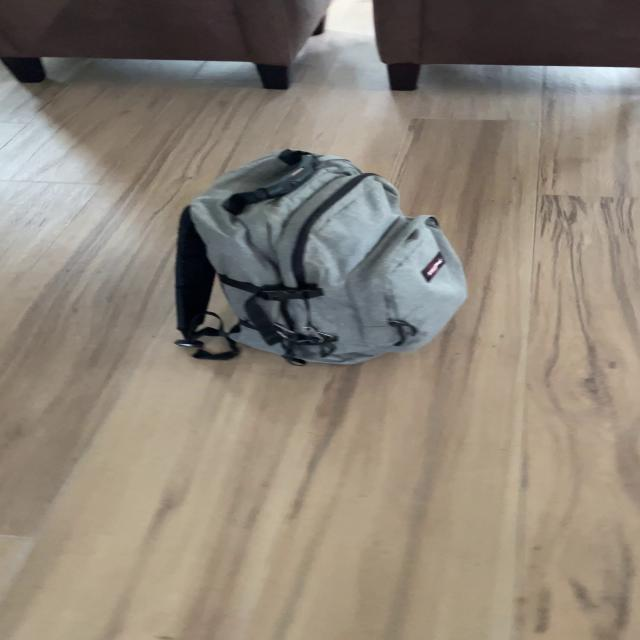backpack: (159, 137, 483, 372)
